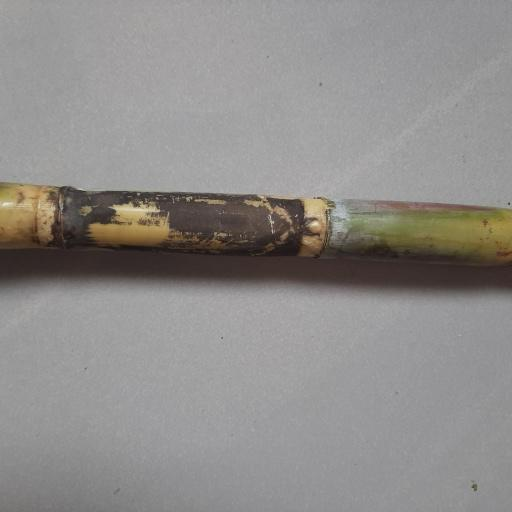Bud: (300, 216, 325, 236)
